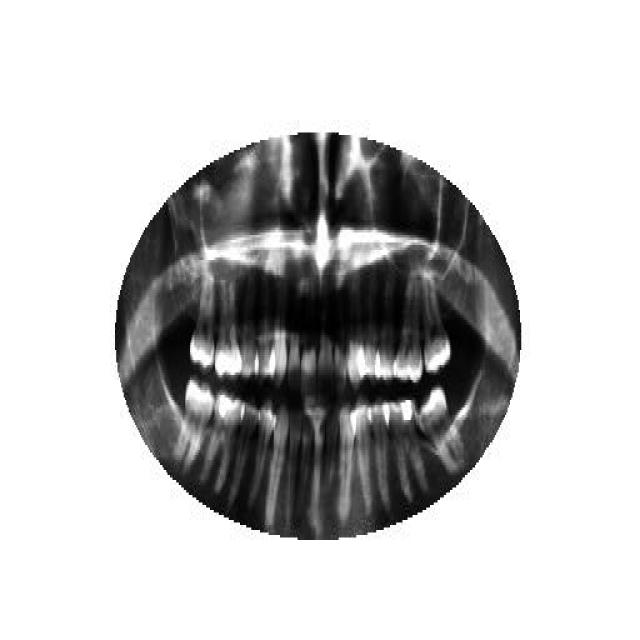Fillings: (202, 390, 242, 495), (385, 402, 425, 500)
